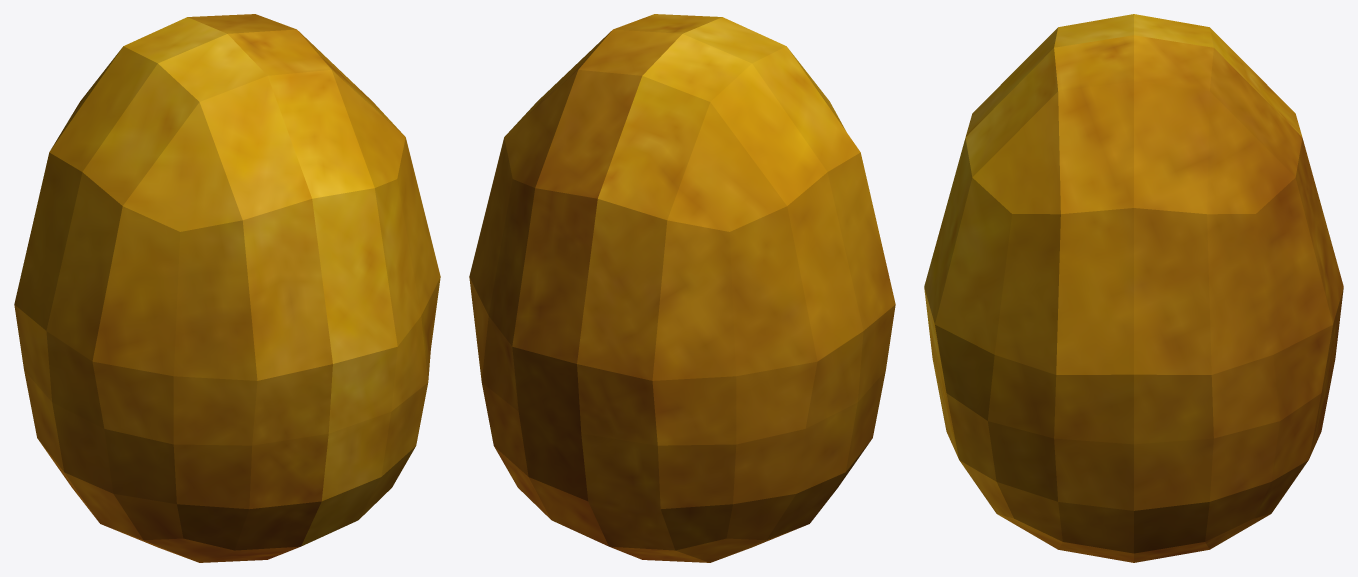
Rendered from OVO_SOZINHO.fbx.
The picture shows the model from 3 angles, left to right: view 1: azimuth 30°, elevation 25°; view 2: azimuth 150°, elevation 25°; view 3: azimuth 270°, elevation 25°; orthographic projection.
Parts seen in each view (by area): view 1: Ovo; view 2: Ovo; view 3: Ovo.
Boxes of the visible parts, x1=… form: Ovo: x1=14, y1=14, x2=440, y2=562; Ovo: x1=469, y1=14, x2=895, y2=562; Ovo: x1=924, y1=14, x2=1343, y2=562.
Bounding box in the file's own units: 173 × 233 × 175.
1 material, 1 textured.
